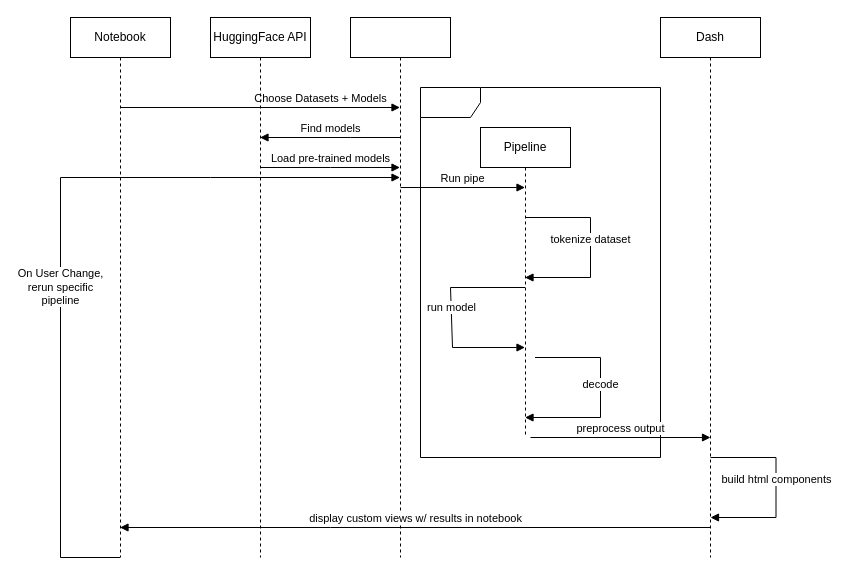
Some shapes in this 848 by 583 pixel diagram are drawn without their labels. The shapes that lost their labels are listed below. From the top down, each one's box as (x1, y1, x2, y2) in pixels, then its label:
(350, 16, 450, 558): PipelineStore
(420, 86, 660, 458): For each pipe
